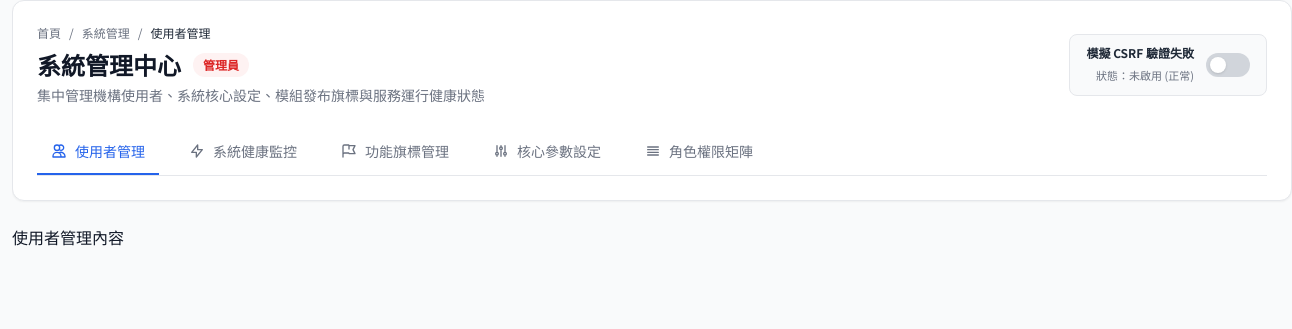
CSRF Simulation & Security 403 Protection (Feature F14, AC4) › toggles CSRF simulation switch in AdminLayout header and updates localStorage
Expected: the text "狀態：未啟用 (正常)" is shown, [1096, 67, 1194, 83]
Toggle ON
What coordinates should you click on to do the following:
click the checkbox named "模擬 CSRF 驗證失敗開關"
I would click on:
 (1140, 53)
Its box is [1086, 45, 1194, 61].
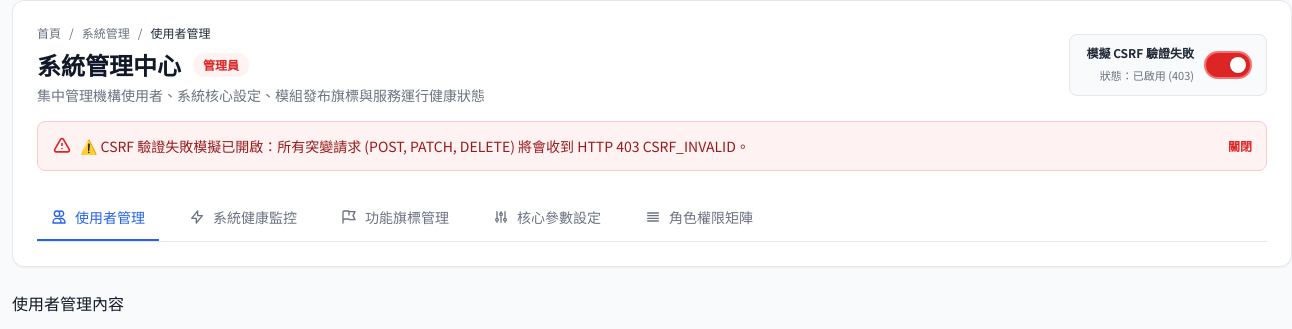
Result: the text "狀態：已啟用 (403)" is shown at [1100, 67, 1194, 83]
Result: the text "CSRF 驗證失敗模擬已開啟" is shown at [80, 136, 750, 156]
Toggle OFF
What coordinates should you click on to do the following:
click the checkbox named "模擬 CSRF 驗證失敗開關"
I would click on:
 (1140, 53)
Its box is [1086, 45, 1194, 61].
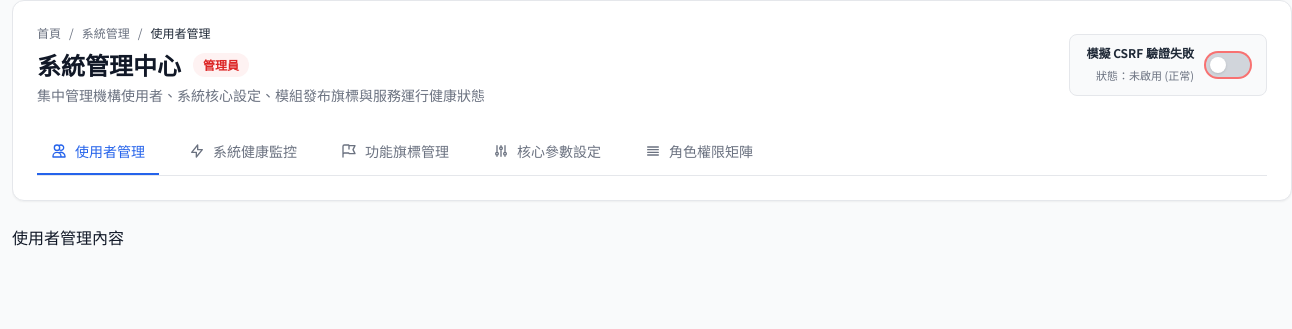
Result: the text "狀態：未啟用 (正常)" is shown at [1096, 67, 1194, 83]
